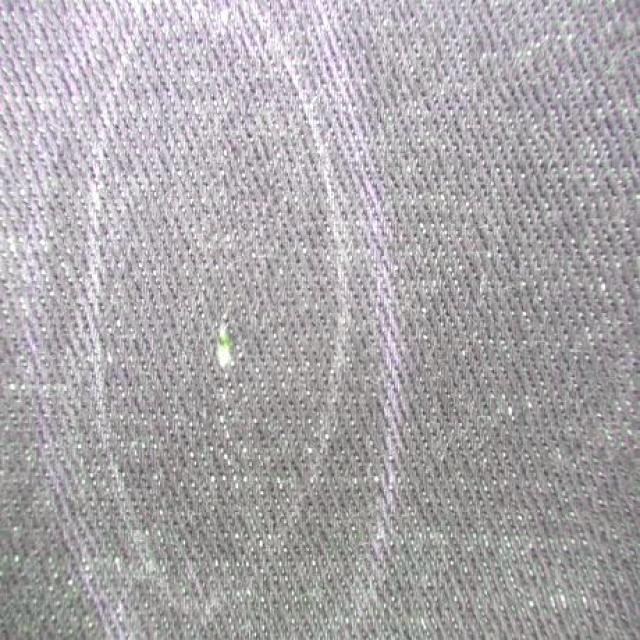Thread_other: (132, 250, 292, 528)
